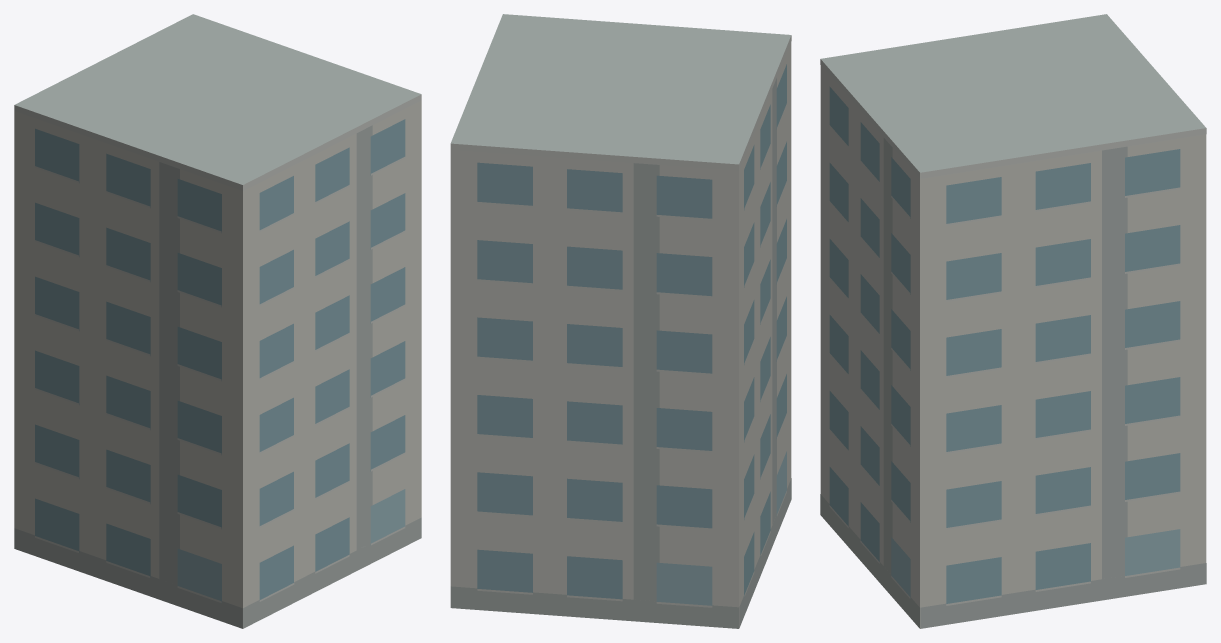
Rendered from residential-e82c4ae0-fadf-41ae-8932-3fd9c07c11f6.glb.
3 views of the same model, side by side, from view 1: azimuth 30°, elevation 25°; view 2: azimuth 150°, elevation 25°; view 3: azimuth 270°, elevation 25° (orthographic). The views are drawn at different scales.
Parts seen in each view (by area): view 1: residential-e82c4ae0-fadf-41ae-8932-3fd9c07c11f6.tmp; view 2: residential-e82c4ae0-fadf-41ae-8932-3fd9c07c11f6.tmp; view 3: residential-e82c4ae0-fadf-41ae-8932-3fd9c07c11f6.tmp.
Boxes of the visible parts, x1,y1,x2,y2 form: residential-e82c4ae0-fadf-41ae-8932-3fd9c07c11f6.tmp: [14, 14, 421, 628]; residential-e82c4ae0-fadf-41ae-8932-3fd9c07c11f6.tmp: [450, 14, 791, 628]; residential-e82c4ae0-fadf-41ae-8932-3fd9c07c11f6.tmp: [820, 14, 1206, 628].
Size of the model in its own units: 13.45 by 18 by 13.81.
